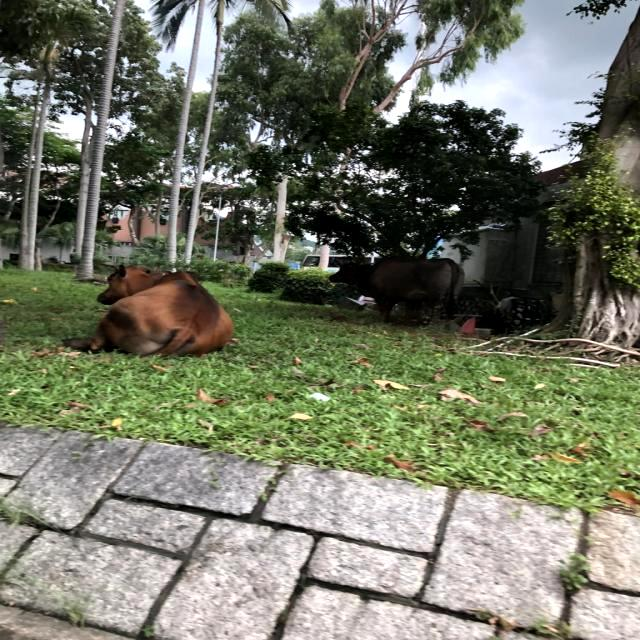COW: (65, 266, 232, 356)
